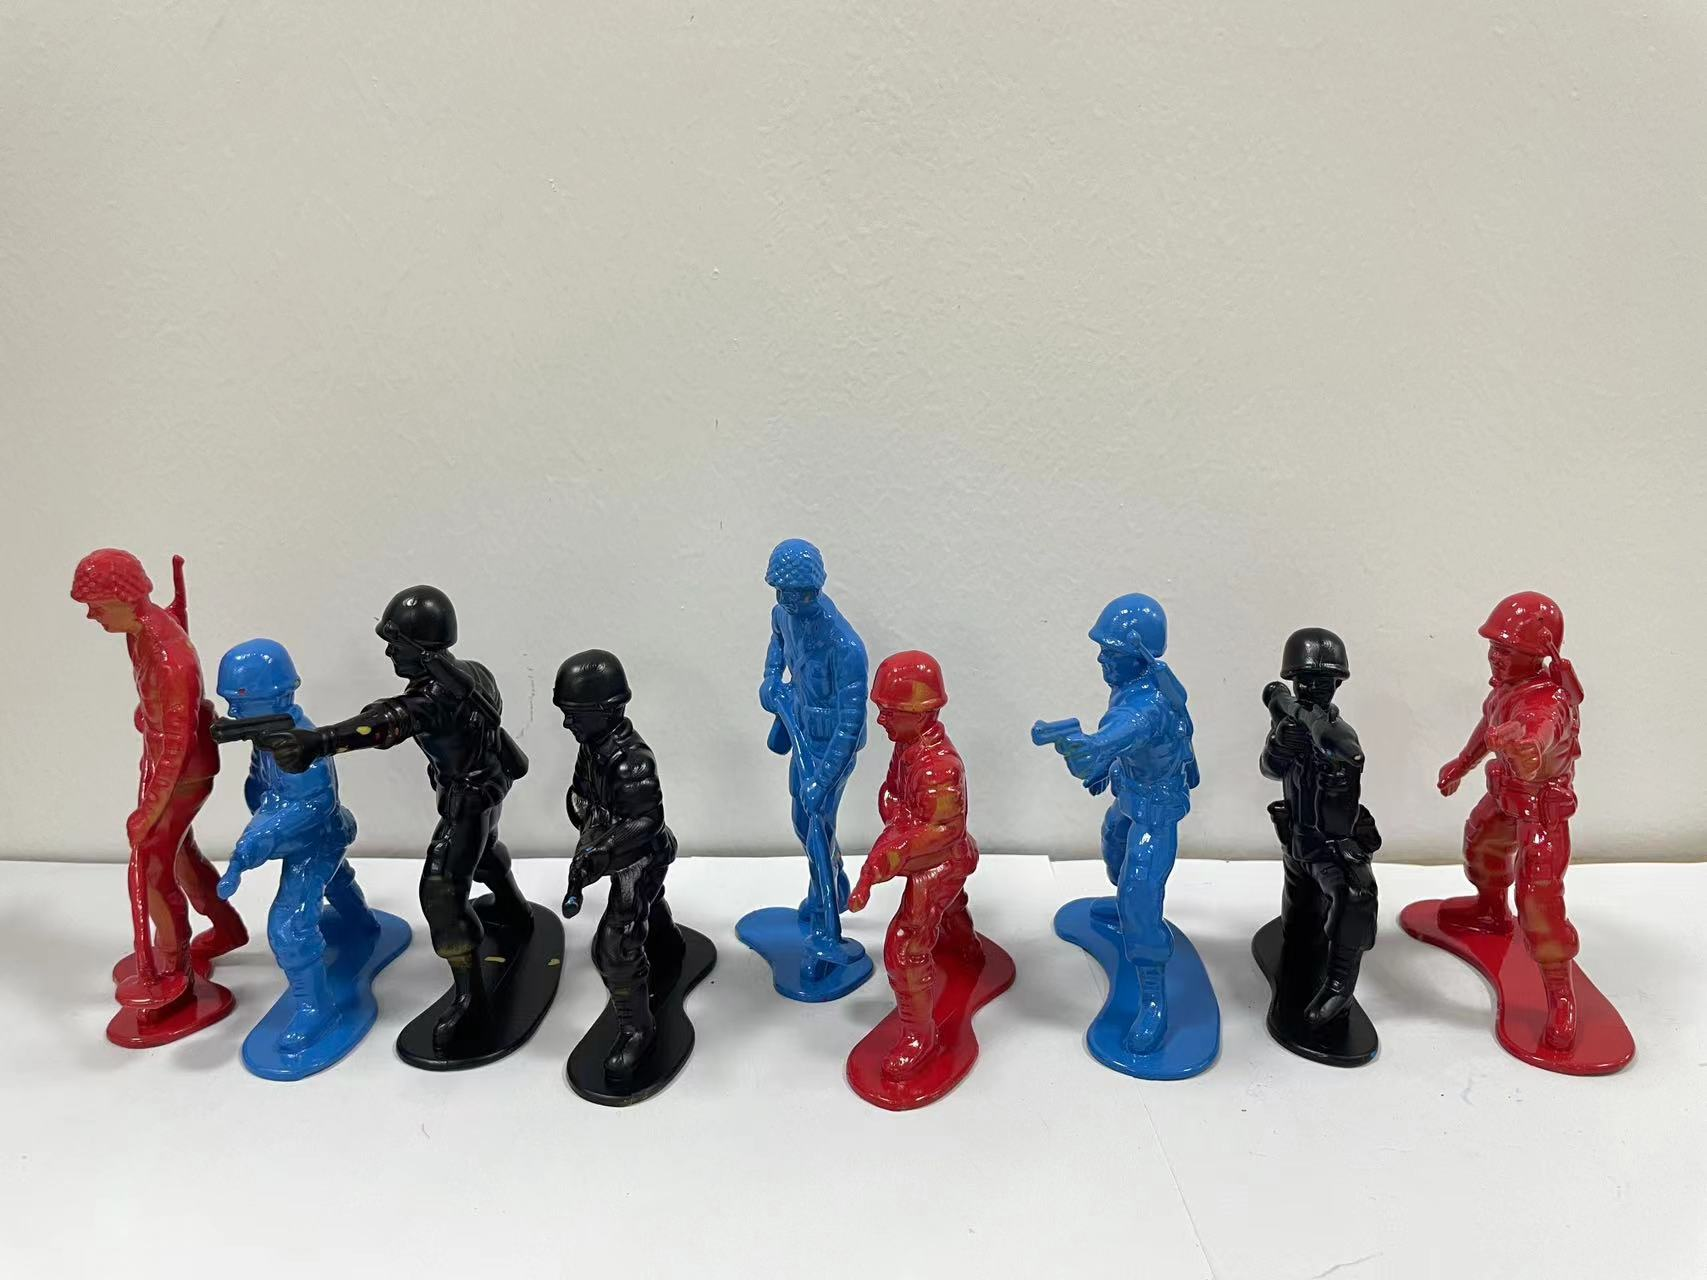black: (343, 574, 560, 1098), (538, 641, 720, 1140), (1238, 620, 1406, 1070)
blue: (1013, 575, 1237, 1094), (216, 627, 406, 1107), (706, 504, 876, 999)
red: (1407, 582, 1673, 1098), (52, 524, 233, 1053), (851, 649, 1022, 1107)
